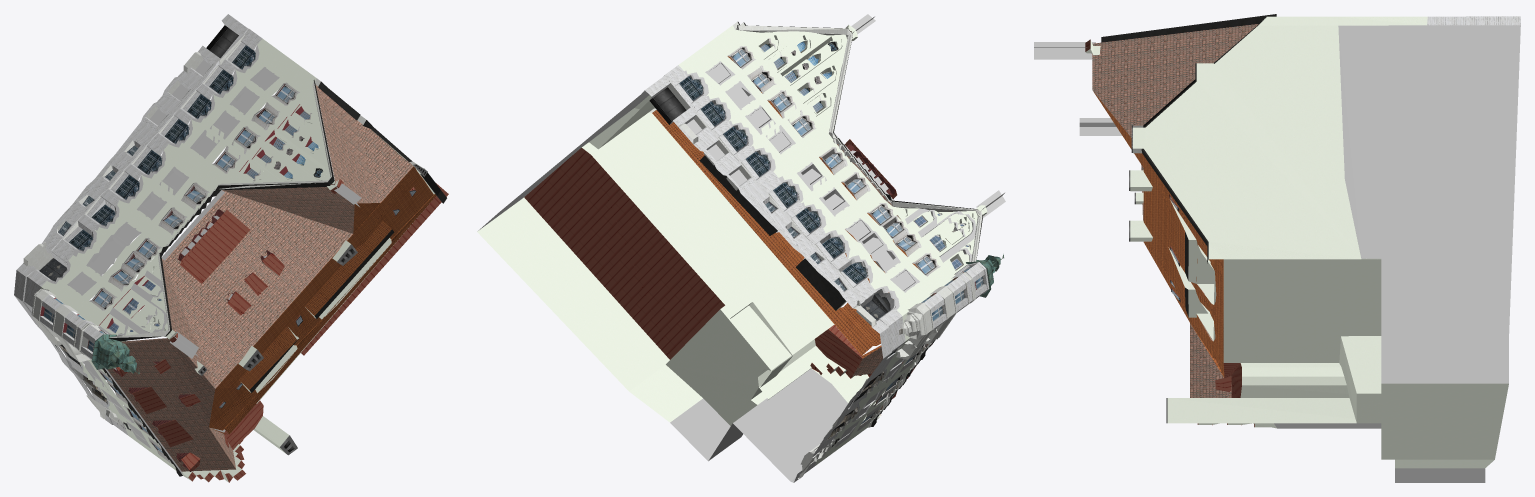
Rendered from Suur-Karja_1-origo.obj.
3 views of the same model, side by side, from view 1: azimuth 30°, elevation 25°; view 2: azimuth 150°, elevation 25°; view 3: azimuth 270°, elevation 25° (orthographic). The views are drawn at different scales.
Parts seen in each view (by area): view 1: Suur_Karja_1; view 2: Suur_Karja_1; view 3: Suur_Karja_1.
Part boxes in pixels (bbox=[...]): Suur_Karja_1: bbox=[14, 14, 448, 482]; Suur_Karja_1: bbox=[477, 14, 1005, 482]; Suur_Karja_1: bbox=[1034, 14, 1520, 482].
Size of the model in its own units: 44.12 by 37.5 by 33.08.
